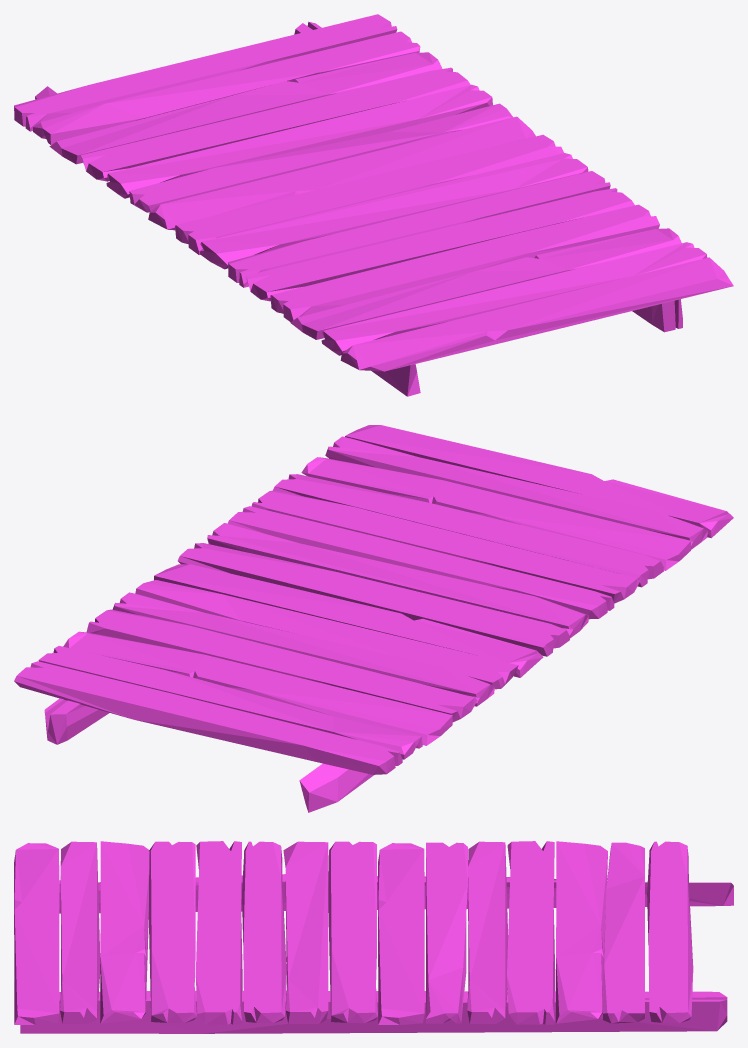
File: SM_Pier_Base_Long_Fantasy.fbx
3 renders of one model, top to bottom at view 1: azimuth 30°, elevation 25°; view 2: azimuth 150°, elevation 25°; view 3: azimuth 270°, elevation 25°, orthographic. The views are drawn at different scales.
Parts seen in each view (by area): view 1: SM_Pier_Base_Long_Fantasy; view 2: SM_Pier_Base_Long_Fantasy; view 3: SM_Pier_Base_Long_Fantasy.
Part boxes in pixels (bbox=[...]): SM_Pier_Base_Long_Fantasy: bbox=[14, 14, 733, 396]; SM_Pier_Base_Long_Fantasy: bbox=[14, 425, 733, 812]; SM_Pier_Base_Long_Fantasy: bbox=[14, 841, 733, 1033].
Size of the model in its own units: 3.02 by 0.3663 by 5.32.
